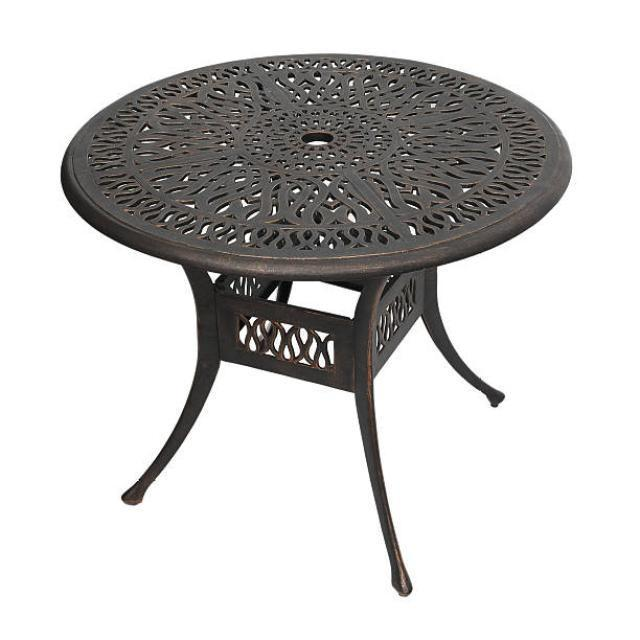table: (59, 51, 574, 596)
